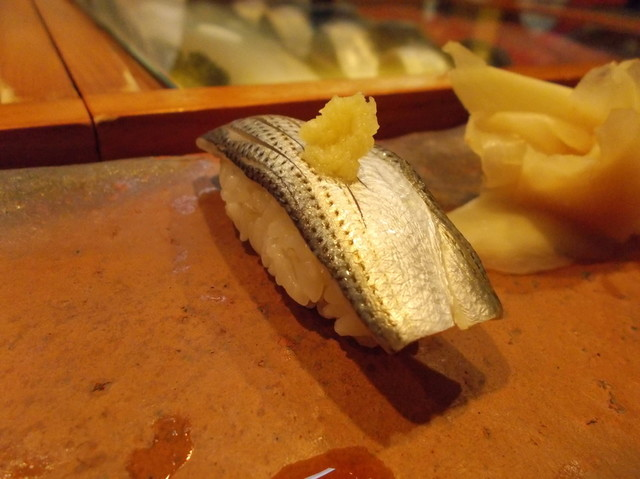spotted-shad: (195, 92, 507, 358)
